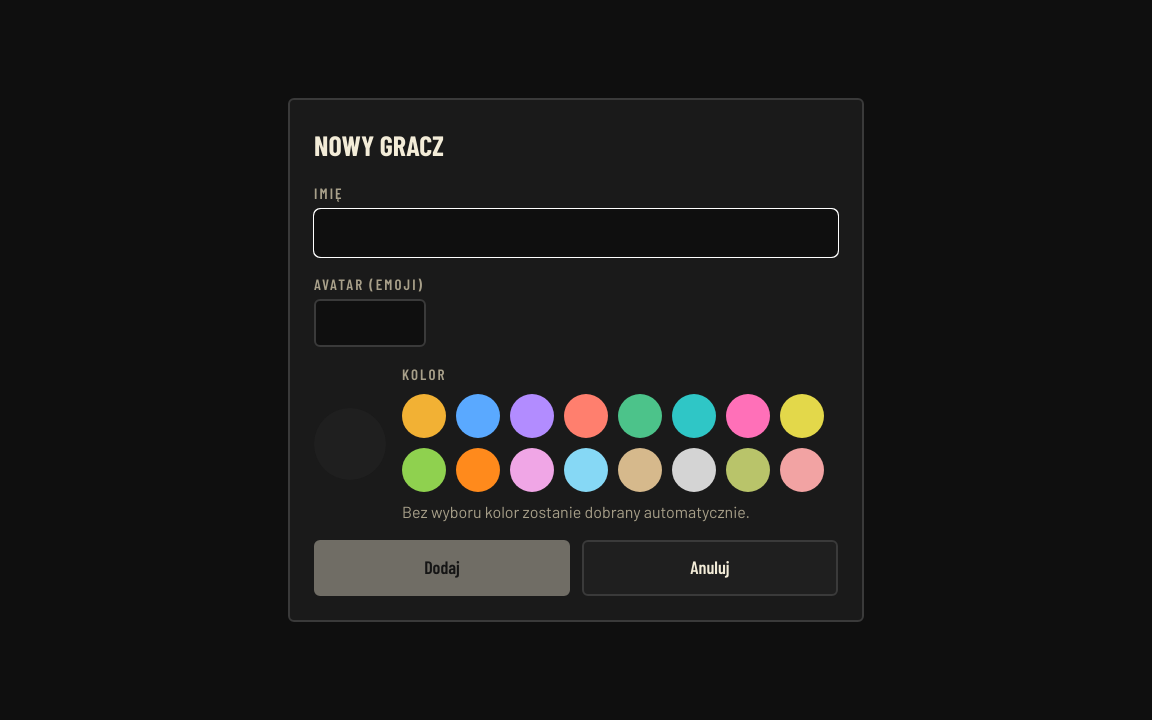
Test: NewPlayerDialog › shows a taken name under the name field and stays open until the name changes
In the field labelled "Imię": (576, 233) [314,209,838,257], type " Anna "
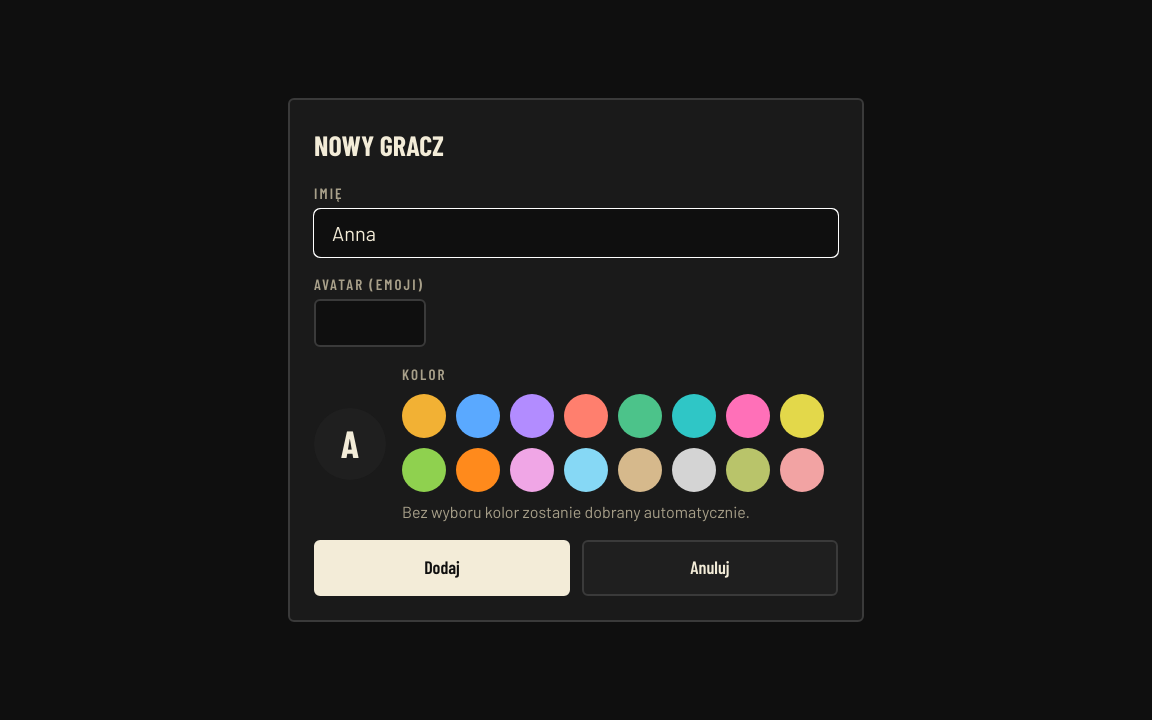
Click the button "Dodaj": click(442, 568) [314,540,570,596]
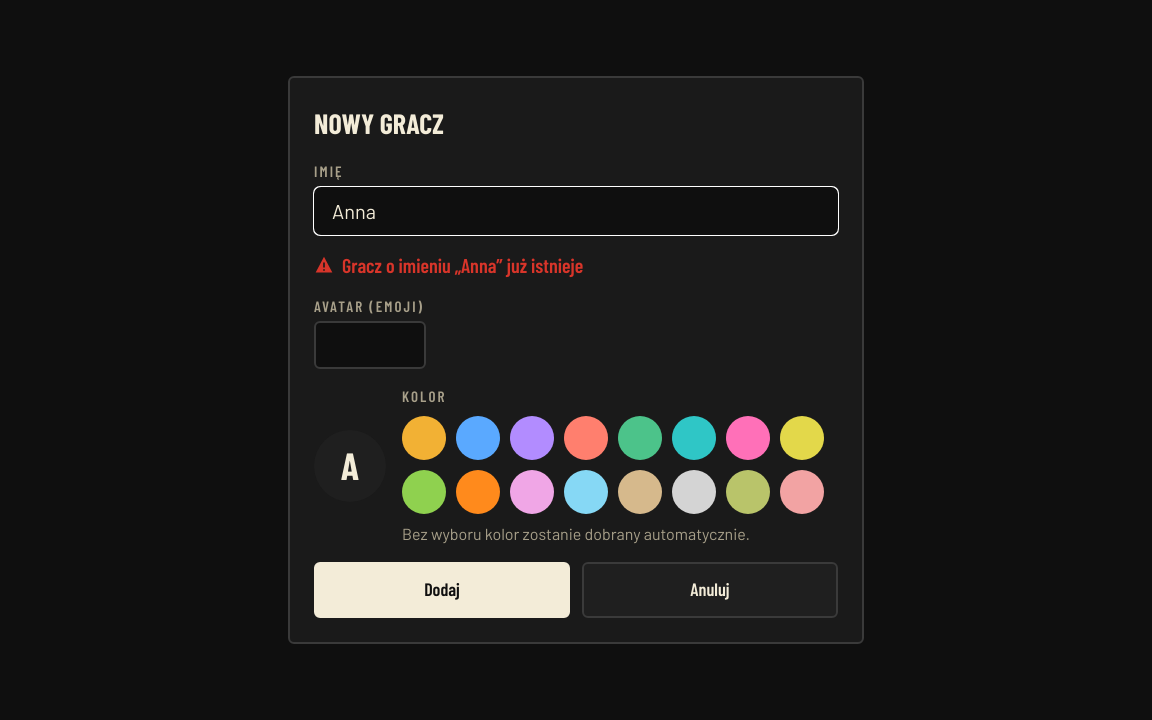
Expected: the dialog is shown, [288,76,864,644]
Expected: the field labelled "Imię" is marked as invalid
Replace the text in the field labelled "Imię" with "Anna M": (576, 211) [314,187,838,235]
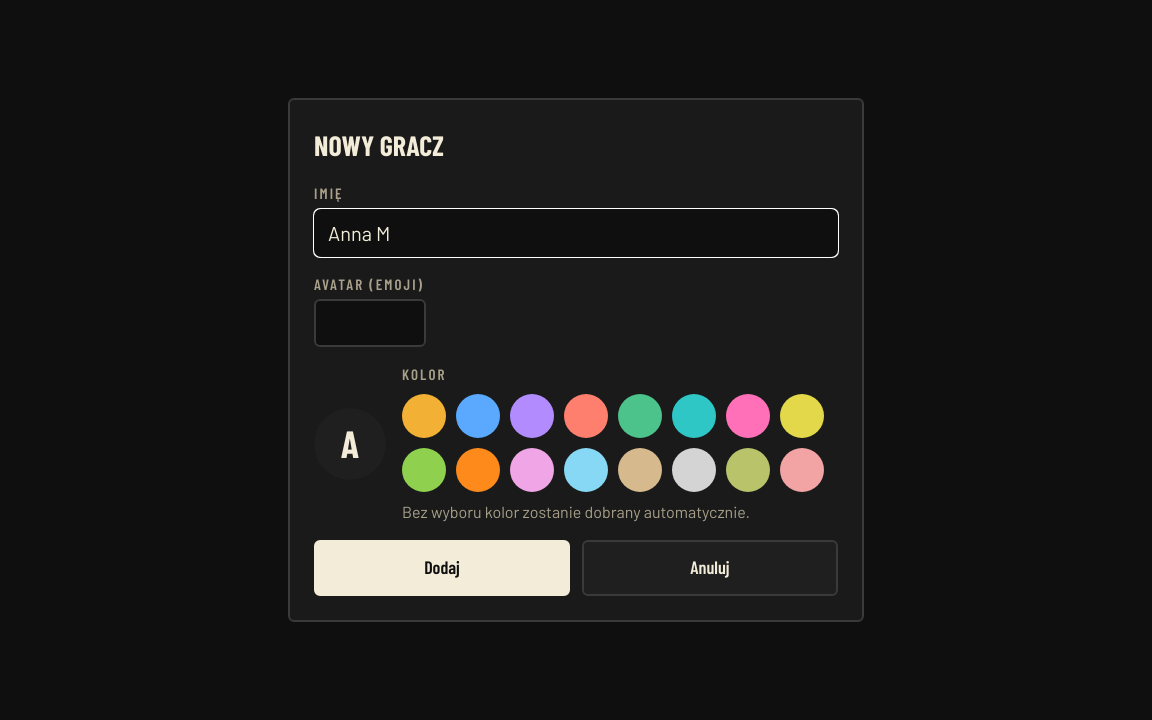
Expected: the text "Gracz o imieniu „Anna” już istnieje" is gone
